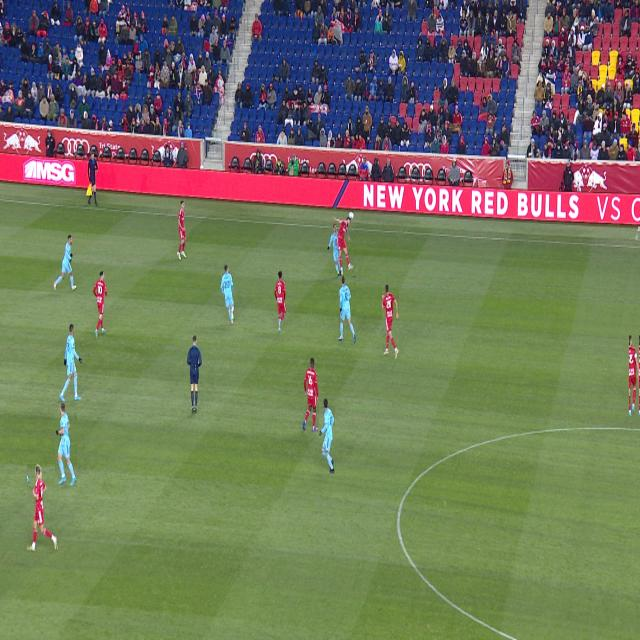football: (348, 211, 354, 219)
player: (28, 464, 57, 552), (55, 403, 77, 486), (59, 324, 82, 401), (54, 235, 77, 291), (382, 285, 399, 360), (338, 277, 356, 344), (319, 399, 335, 474), (333, 217, 353, 275), (303, 358, 318, 431), (93, 271, 107, 338), (629, 335, 640, 417), (220, 265, 234, 325), (327, 224, 341, 278), (275, 271, 286, 332), (177, 201, 187, 260)
referee: (187, 336, 202, 413)
